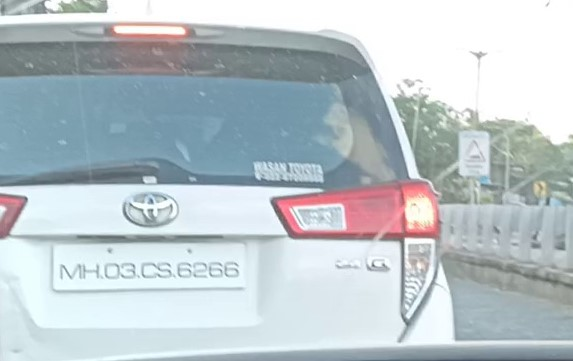MH03CS6266: (53, 241, 246, 289)
